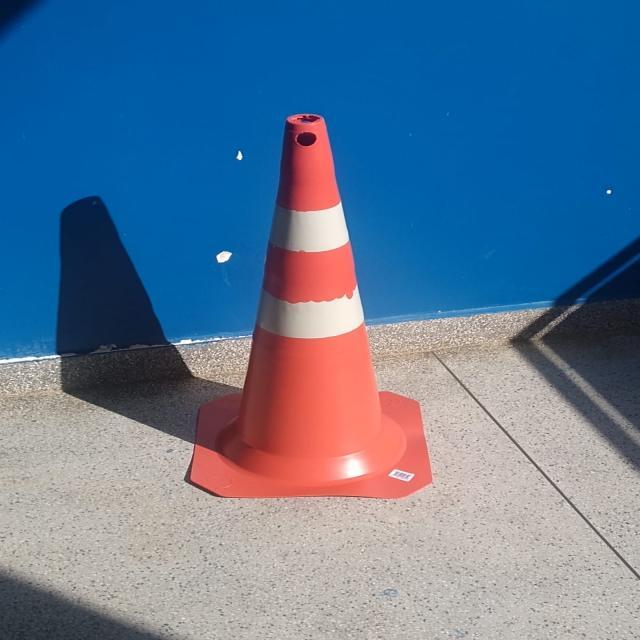Cone: (148, 96, 462, 501)
